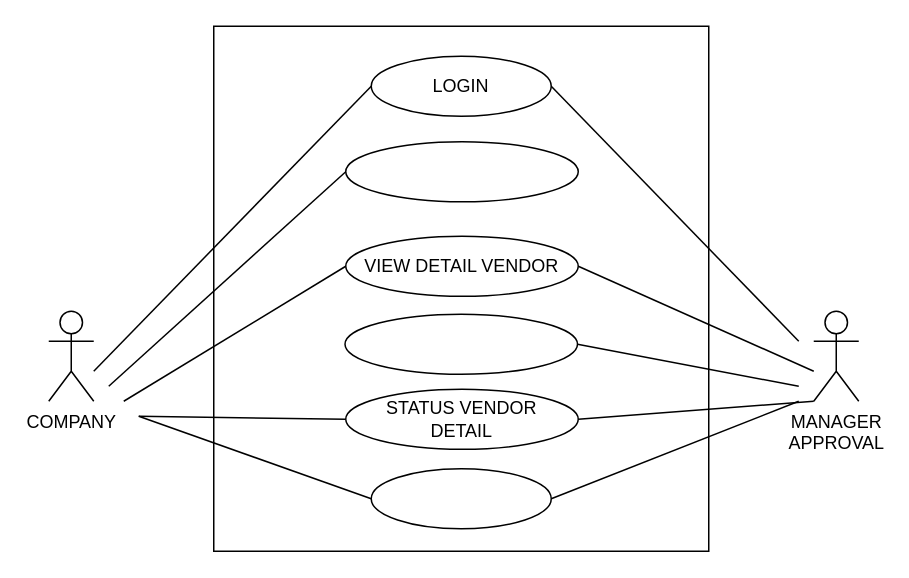
Some shapes in this 909 by 578 pixel diagram are drawn without their labels. Each missing label, with the box of its shape:
APPROVAL VENDOR: (344, 313, 578, 374)
LOGOUT: (370, 467, 551, 529)
MEREGISTRASIKAN PERUSAHAN: (344, 140, 578, 202)
